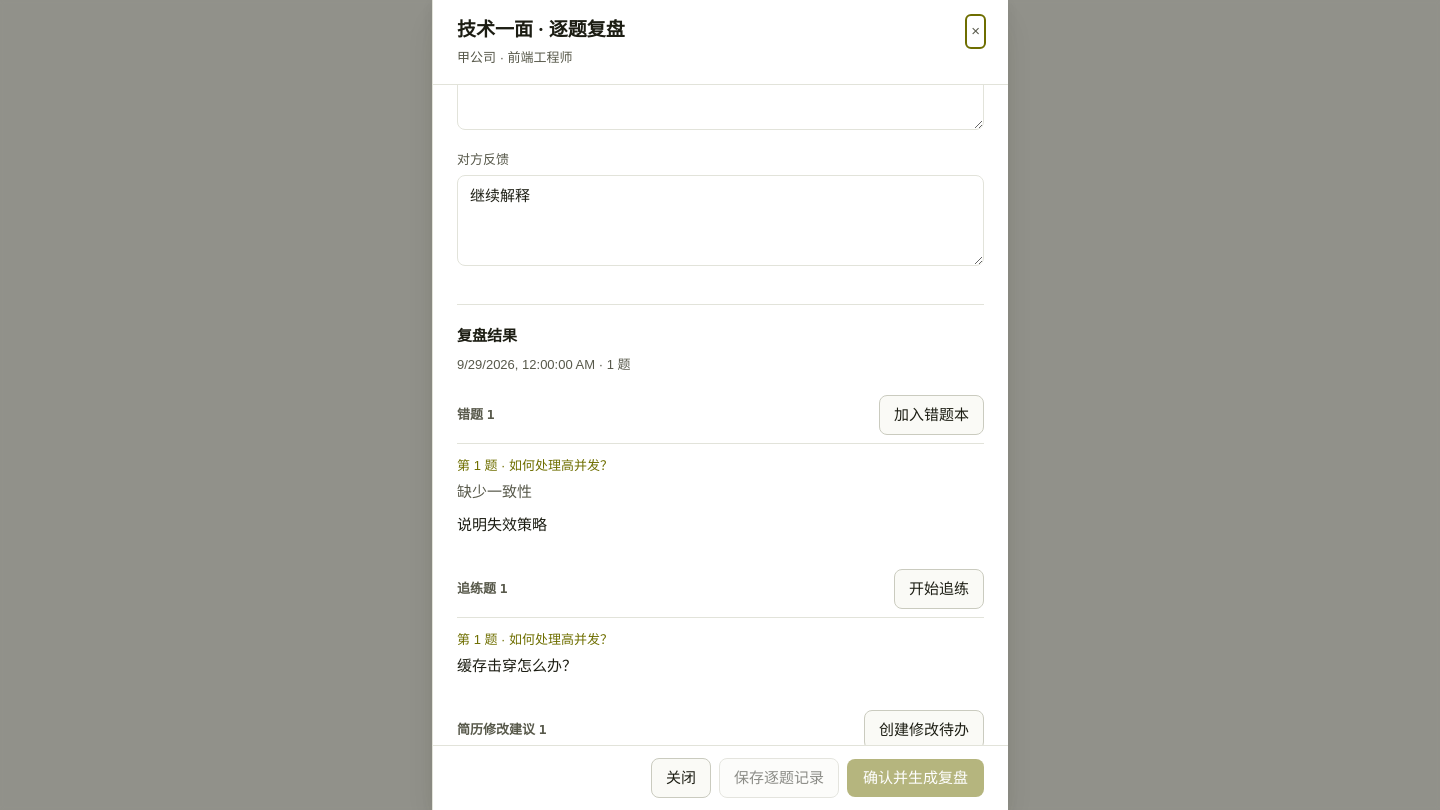
Test: 三类结果分别确认后执行，取消时不写入，追练创建后打开练习
(page scrolled)
Click the button "加入错题本" at (932, 415), box [879,395,984,435]
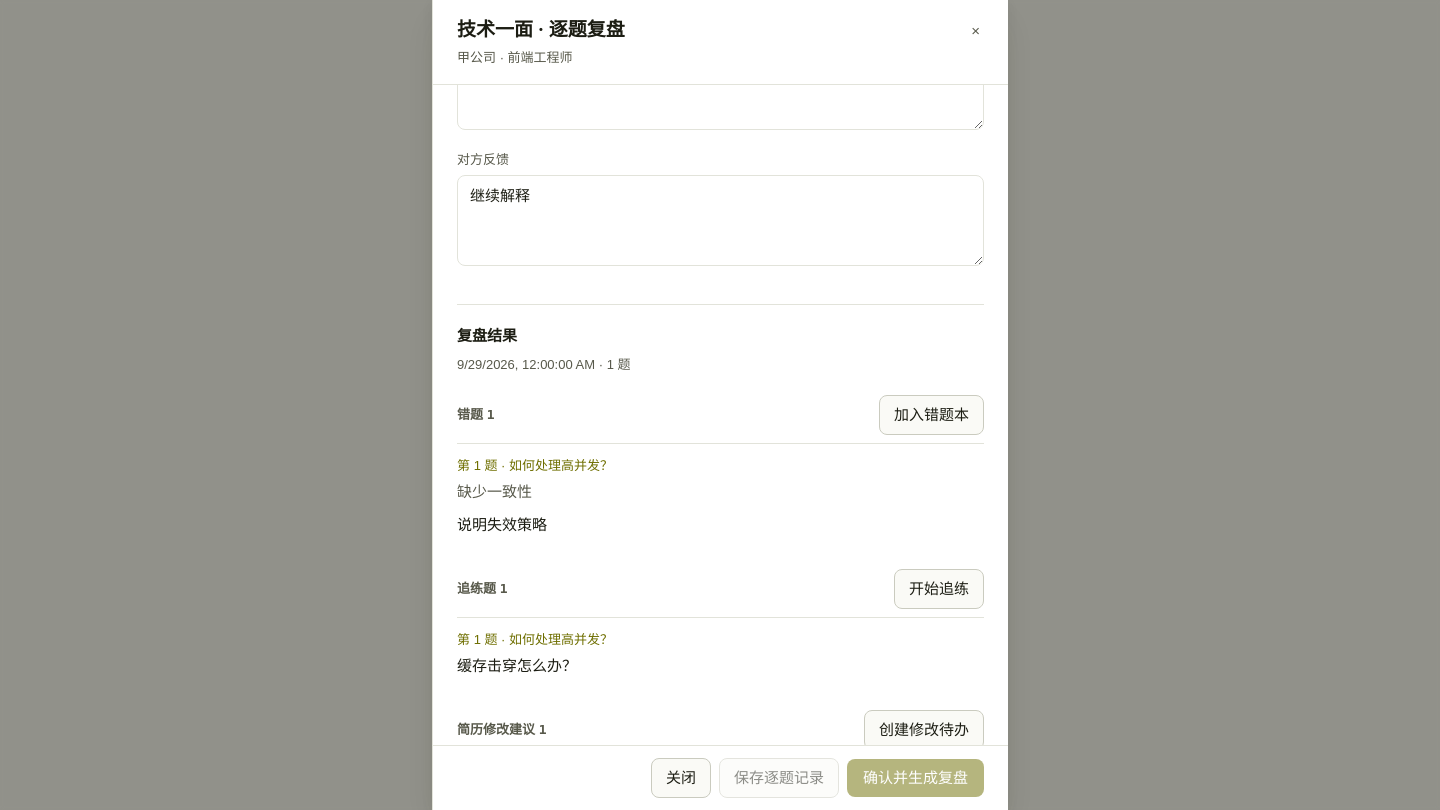
Click the button "加入错题本" at (932, 415), box [879,395,984,435]
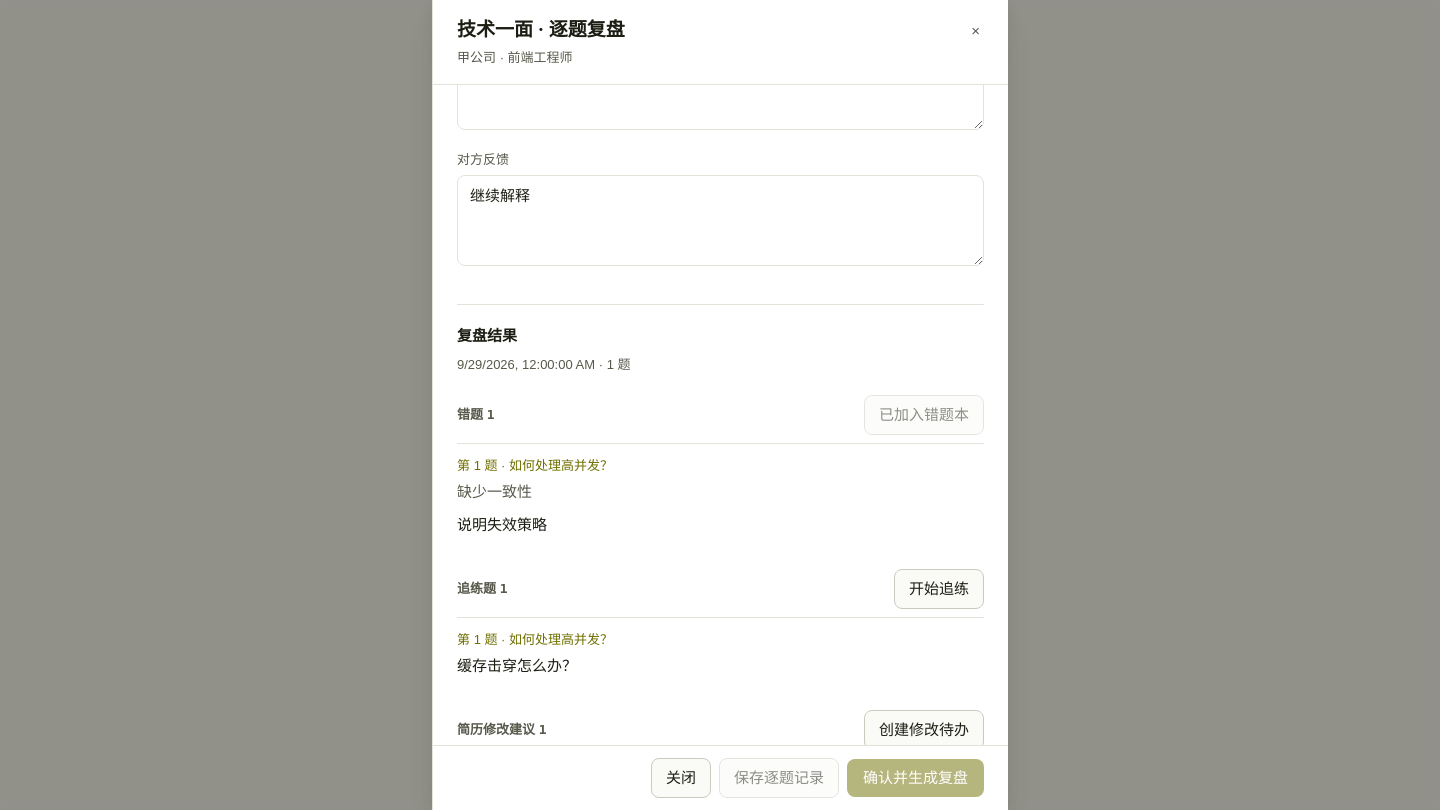
Now the button "已加入错题本" is shown, box [864,395,984,435]
Click the button "开始追练" at (939, 589), box [894,569,984,609]
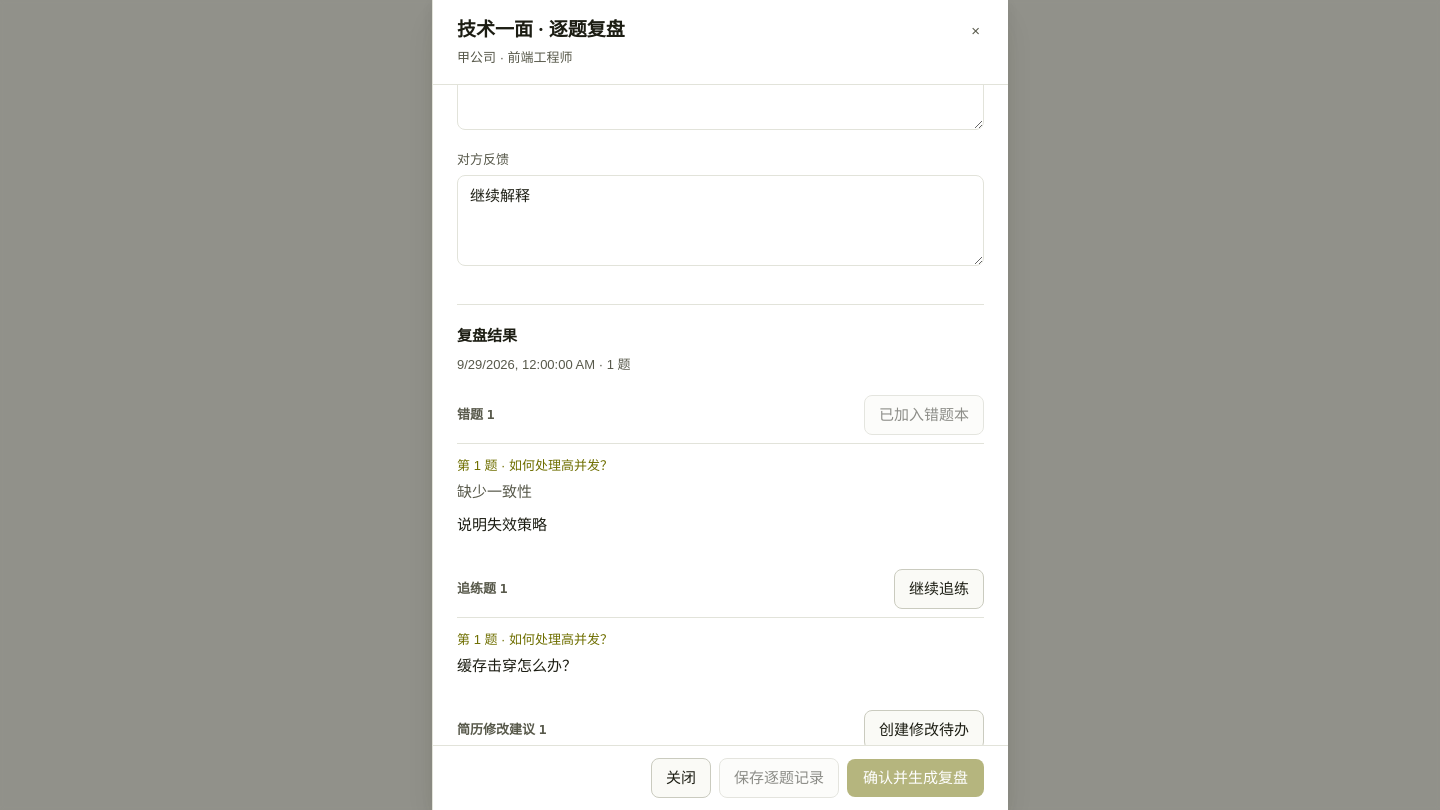
Click the button "创建修改待办" at (924, 730), box [864,710,984,750]
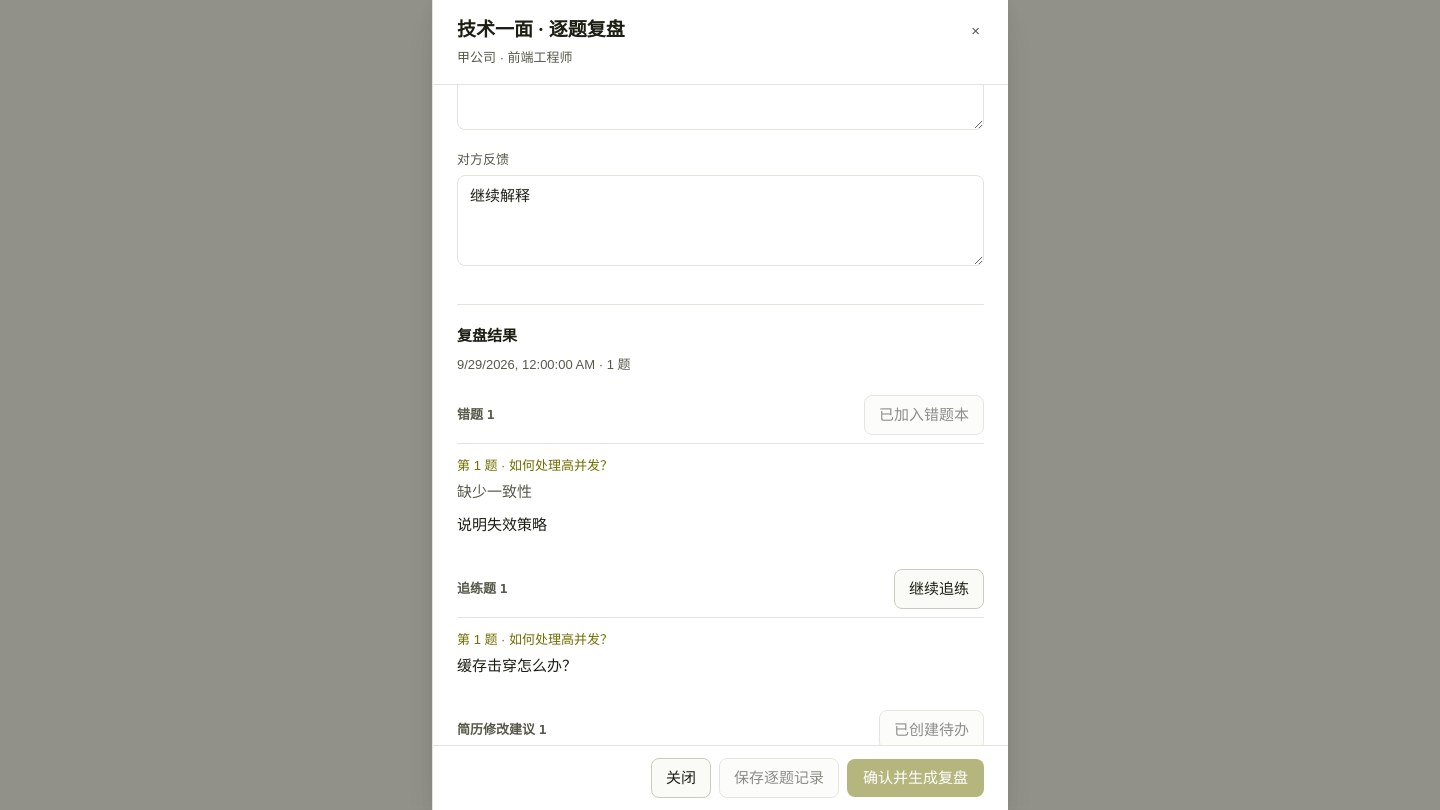
Now the button "已创建待办" is shown, box [879,710,984,745]
